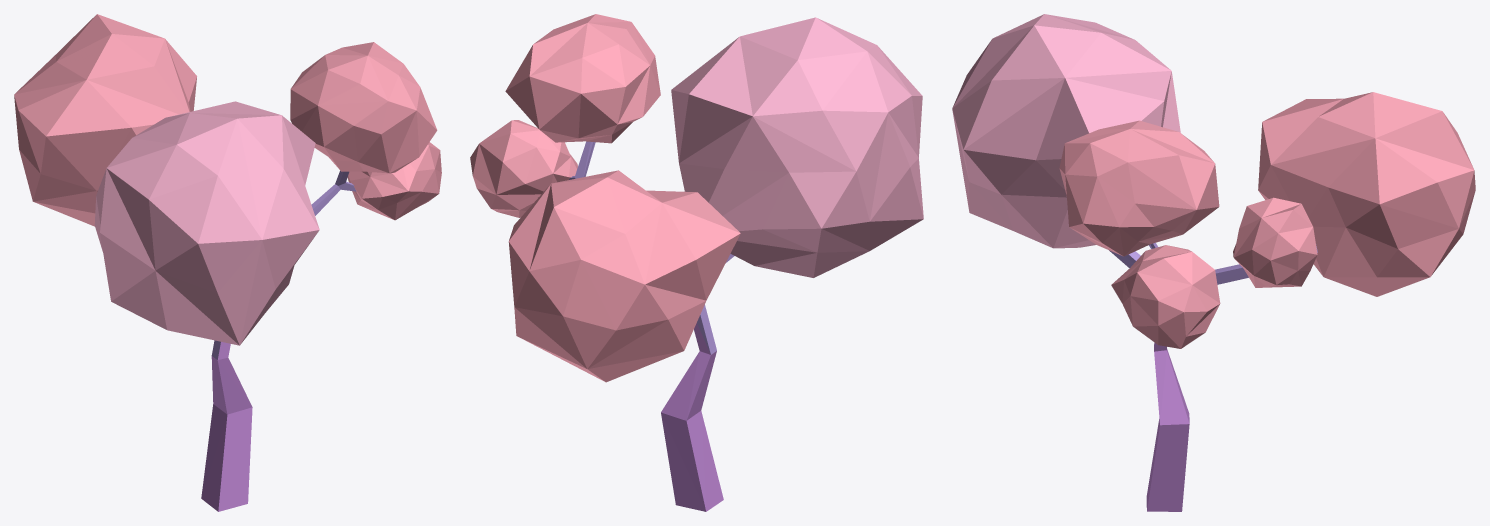
The model's file is tree-purple.fbx.
The picture shows the model from 3 angles, left to right: view 1: azimuth 30°, elevation 25°; view 2: azimuth 150°, elevation 25°; view 3: azimuth 270°, elevation 25°; orthographic projection. The views are drawn at different scales.
Visible parts, largest first — view 1: 棱角球.009; view 2: 棱角球.009; view 3: 棱角球.009.
Part boxes in pixels (bbox=[...]): 棱角球.009: bbox=[14, 14, 441, 511]; 棱角球.009: bbox=[470, 14, 923, 511]; 棱角球.009: bbox=[952, 14, 1475, 511].
Bounding box in the file's own units: 446 × 493 × 515.
